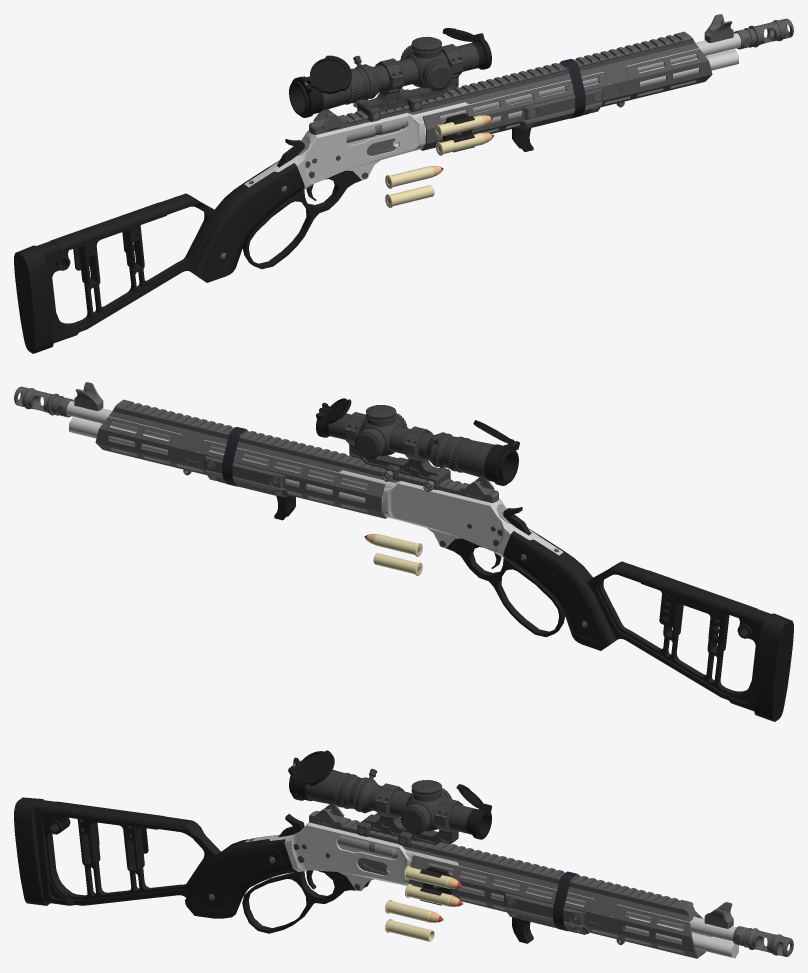
File: marlin1895midwest1.fbx
3 views of the same model, one above another, from view 1: azimuth 30°, elevation 25°; view 2: azimuth 150°, elevation 25°; view 3: azimuth 330°, elevation 25° (orthographic).
Parts seen in each view (by area): view 1: midwestmarlinstock, marlinbase, midwesttop, midwestmlokhandguard, atacr, atacrcap, ordnancebadgermount, lever, railscaleshtp, muzzle, bolt, 4570 (+5 smaller); view 2: midwestmarlinstock, marlinbase, midwestmlokhandguard, midwesttop, atacr, ordnancebadgermount, atacrcap, lever, railscaleshtp, muzzle, 4570, band (+2 smaller); view 3: midwestmarlinstock, marlinbase, midwesttop, midwestmlokhandguard, atacr, ordnancebadgermount, atacrcap, lever, railscaleshtp, muzzle, 4570, band (+8 smaller).
Part boxes in pixels (x1,y1,x2,y2): midwestmarlinstock: (14,160,304,353); marlinbase: (244,33,741,189); midwesttop: (309,31,698,134); midwestmlokhandguard: (420,49,712,150); atacr: (321,36,479,110); atacrcap: (289,28,491,117); ordnancebadgermount: (353,44,463,121); lever: (242,170,361,269); railscaleshtp: (518,88,603,129); muzzle: (733,18,793,49); bolt: (298,119,406,154); 4570: (385,165,443,188); midwestmarlinstock: (503,528,793,721); marlinbase: (66,401,563,557); midwestmlokhandguard: (95,417,387,518); midwesttop: (109,399,498,502); atacr: (328,405,494,478); ordnancebadgermount: (344,412,450,491); atacrcap: (316,398,519,485); lever: (446,538,565,637); railscaleshtp: (204,456,289,497); muzzle: (14,386,74,417); 4570: (364,533,422,556); band: (222,427,246,486); midwestmarlinstock: (14,797,297,918); marlinbase: (244,822,738,958); midwesttop: (309,811,698,921); midwestmlokhandguard: (409,855,711,958); atacr: (305,769,474,834); ordnancebadgermount: (357,783,463,846); atacrcap: (288,750,491,839); lever: (242,870,368,933); railscaleshtp: (504,893,589,934); muzzle: (733,926,793,956); 4570: (385,899,443,922); band: (553,871,577,931).
Bounding box in the file's own units: 847 × 236 × 63.19.
